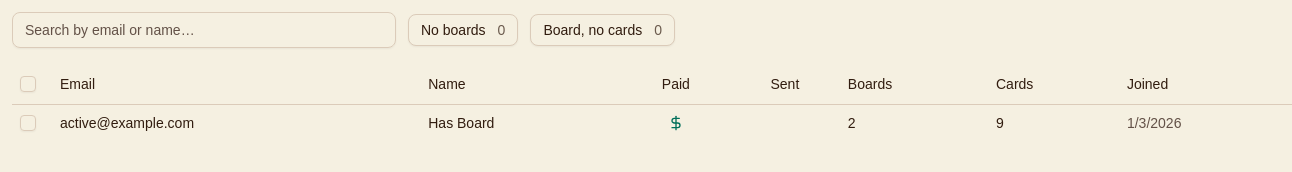
Test: UserSearch — board-but-no-cards filter › names the filter in its own empty state
Step 1. Click the button "Board, no cards 0" → (603, 30), box x1=530 y1=14 x2=675 y2=46
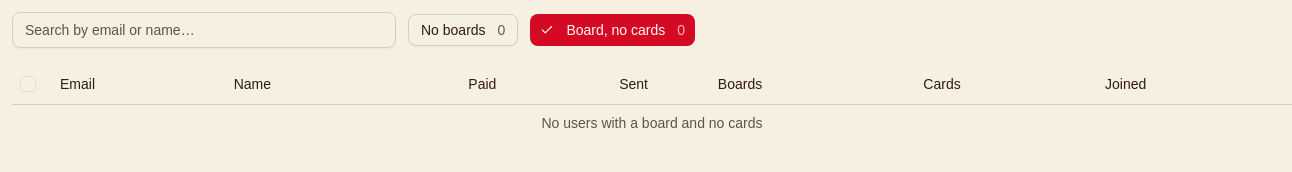
Check: the text "No users with a board and no cards" is shown, box x1=12 y1=104 x2=1291 y2=140
